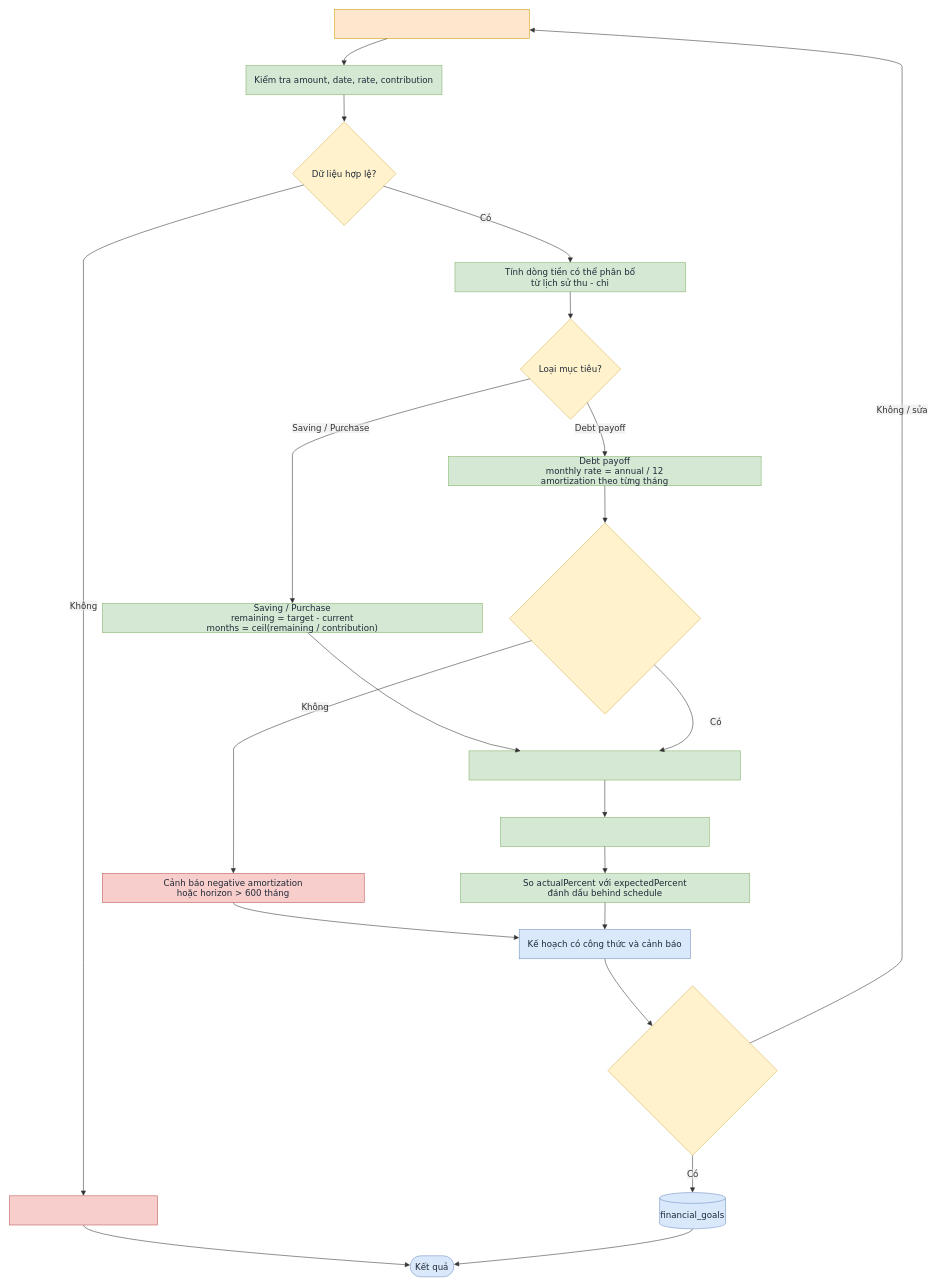
This 937x1286 diagram has some shape labels left out. The centre of each missing label's shape, as x and y in pixels:
Kịch bản what-if thêm khoản góp mỗi tháng: point 604,831
Mục tiêu: saving / purchase / debt payoff: point 431,24
Người dùng lưu mục tiêu?: point 692,1070
Payment có bù lãi tháng đầu?: point 605,618
Trả lỗi theo field / hỏi làm rõ: point 83,1210
Tính requiredMonthly, projectedDate onTrack, gap, shortfall: point 604,765
